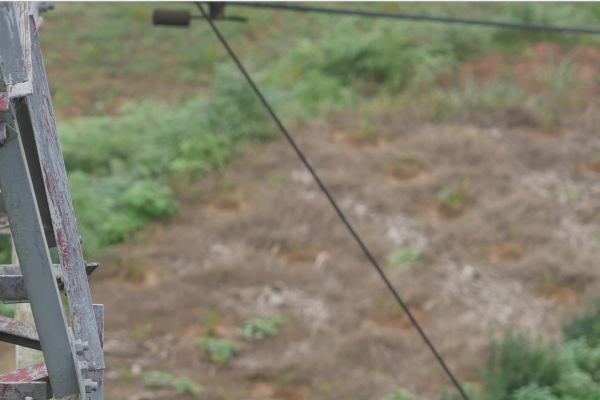damper_defect: (144, 1, 259, 35)
